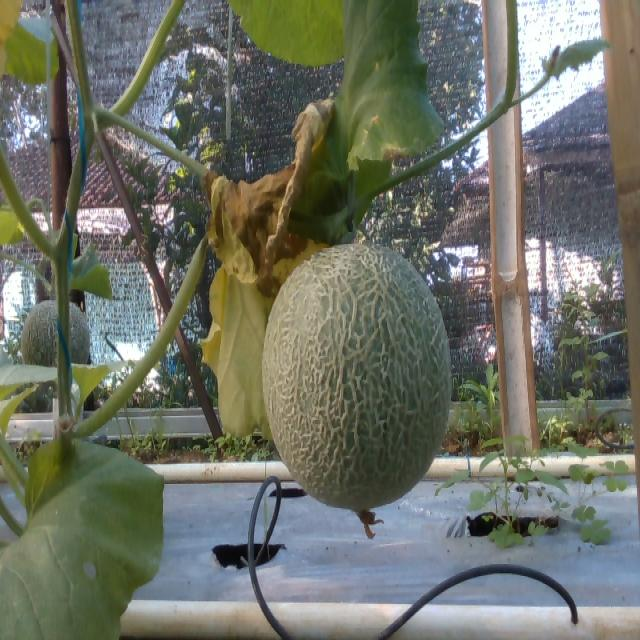melon: (264, 245, 452, 511)
